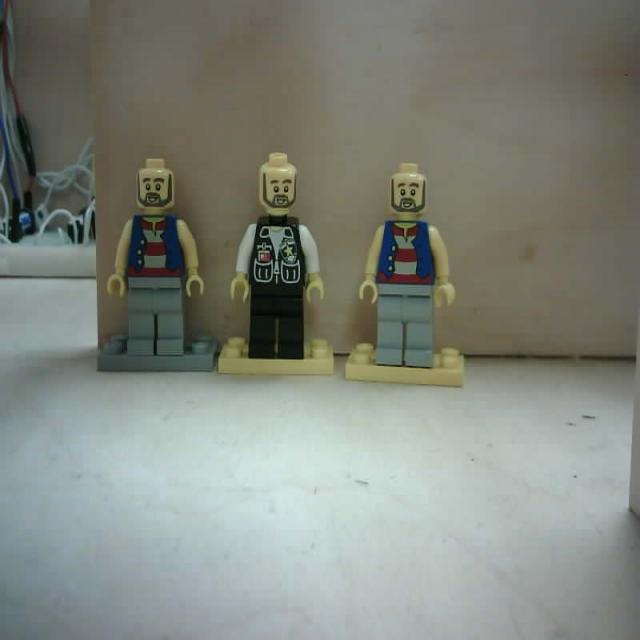Lego-People: (348, 160, 466, 390), (217, 154, 336, 376), (98, 156, 219, 372)
